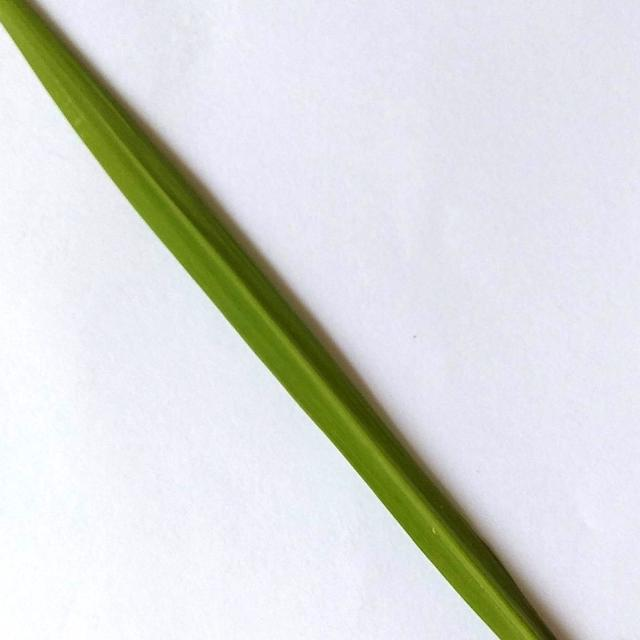Rice_Healthy: (0, 0, 556, 640)
